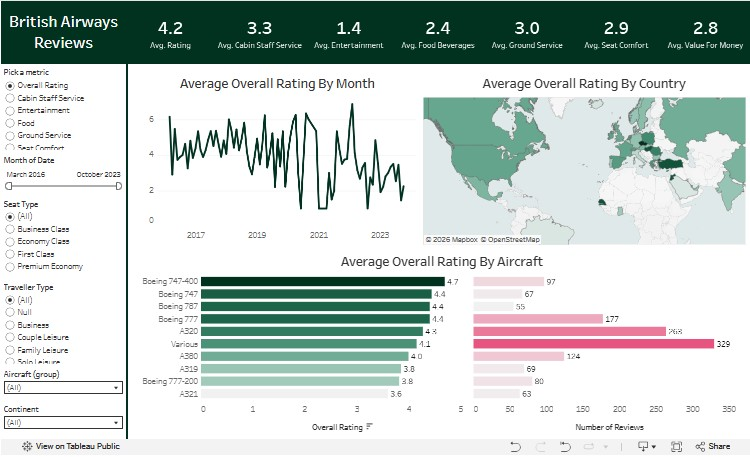

The page's visual inventory and layout, read from the dashboard file:
{"tool":"tableau","page":{"name":"Dashboard 1","canvas":[1200,700],"ordinal":0},"visuals":[{"type":"text","box":[0,0,200,100]},{"type":"worksheet","title":"summary","mark":"Automatic","box":[200,0,999,100]},{"type":"blank","box":[200,100,3,600]},{"type":"parameter","param":"[Parameters].[Parameter 1]","box":[0,102,200,149]},{"type":"worksheet","title":"Month","mark":"Automatic","rows":["Calculation_467529988195790848"],"cols":["date"],"box":[220,110,444,280]},{"type":"worksheet","title":"Map","mark":"Automatic","box":[675,110,517,280]},{"type":"filter","title":"Map","param":"[federated.1pcnwoo1g4pvph10ksfk00hadk1e].[tmn:date:qk]","box":[0,251,200,69]},{"type":"filter","title":"Map","param":"[federated.1pcnwoo1g4pvph10ksfk00hadk1e].[none:seat_type:nk]","box":[0,320,200,127]},{"type":"worksheet","title":"Aircraft","mark":"Automatic","cols":["Calculation_467529988195790848","ba_reviews.csv_693B5AD7C0CC43C9AB5E245D8FB67E5F"],"box":[220,395,971,300]},{"type":"filter","title":"Map","param":"[federated.1pcnwoo1g4pvph10ksfk00hadk1e].[none:traveller_type:nk]","box":[0,447,200,146]},{"type":"filter","title":"Map","param":"[federated.1pcnwoo1g4pvph10ksfk00hadk1e].[Aircraft (group)]","box":[0,593,200,52]},{"type":"filter","title":"Map","param":"[federated.1pcnwoo1g4pvph10ksfk00hadk1e].[none:Continent:nk]","box":[0,645,200,52]}]}

Visuals, with their boxes on the page's 1200x700 design canvas (x1, y1, x2, y2). These are canvas units, not pixel positions in the 750x457 screenshot, which may show the page scaled, cropped or inside an application window:
text: 0,0,200,100
"summary" worksheet: 200,0,1199,100
blank: 200,100,203,700
parameter: 0,102,200,251
"Month" worksheet: 220,110,664,390
"Map" worksheet: 675,110,1192,390
"Map" filter: 0,251,200,320
"Map" filter: 0,320,200,447
"Aircraft" worksheet: 220,395,1191,695
"Map" filter: 0,447,200,593
"Map" filter: 0,593,200,645
"Map" filter: 0,645,200,697
